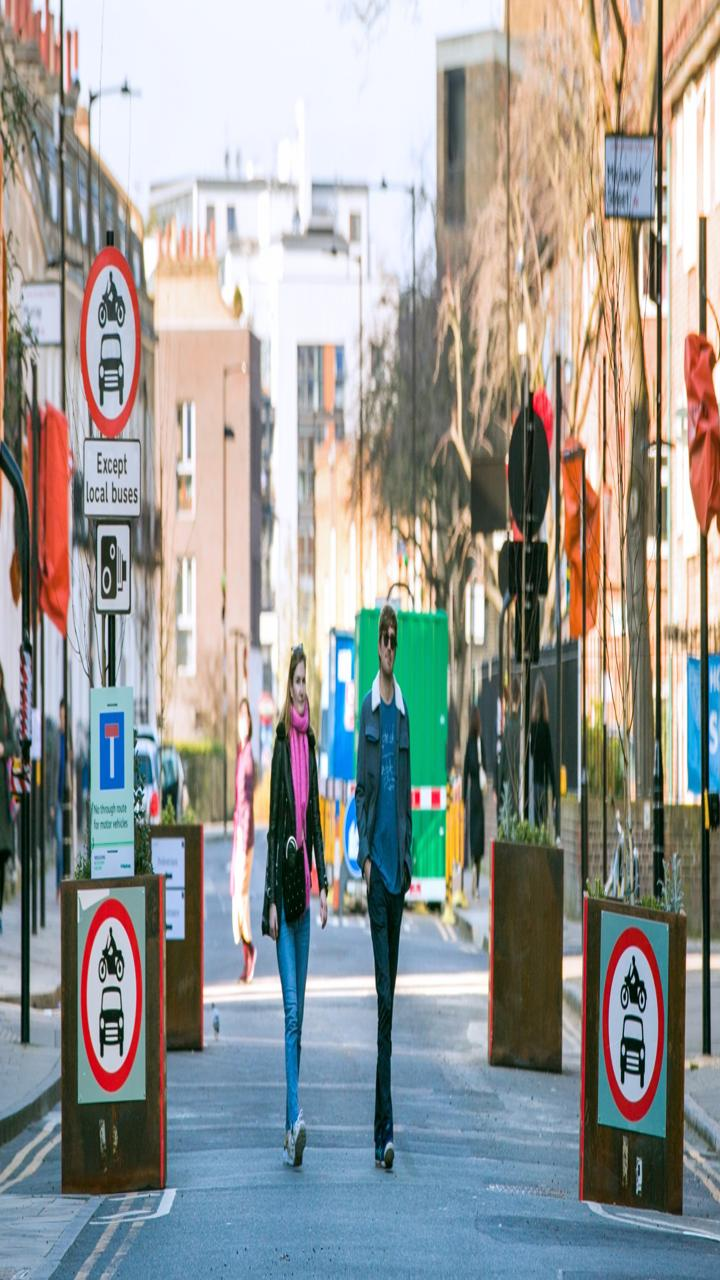Traffic sign: (51, 878, 171, 1108), (585, 911, 705, 1141), (75, 435, 195, 665), (50, 248, 171, 444)
pedestrian: (342, 588, 443, 1180), (235, 628, 326, 1173)
